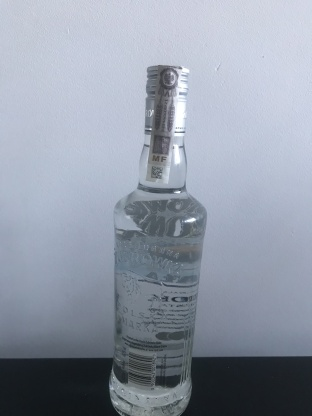nakretka: (141, 60, 191, 140)
